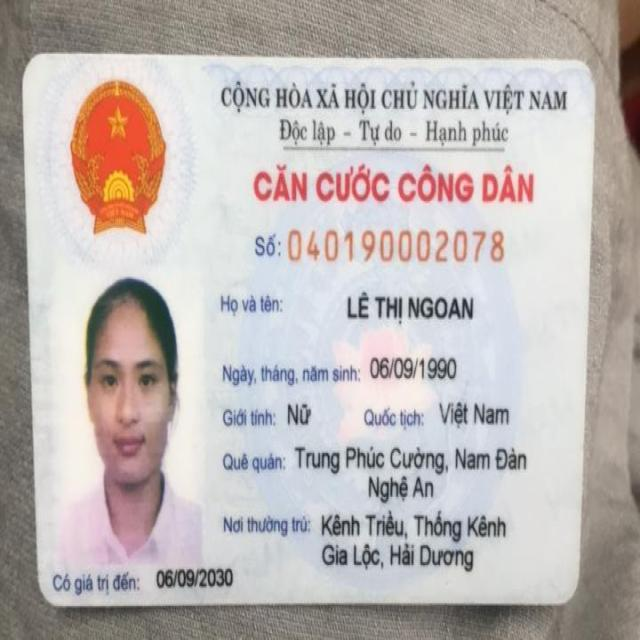bottom_left: (22, 566, 74, 614)
bottom_right: (548, 570, 594, 624)
image_person: (45, 278, 207, 566)
top_left: (5, 42, 48, 96)
top_right: (554, 46, 614, 93)
